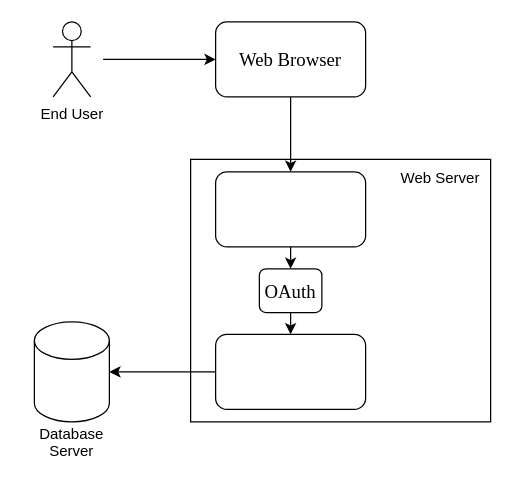
Some shapes in this 513 by 481 pixel diagram are drawn without their labels. The box of each missing label's shape, as (x1, y1, x2, y2) in pixels:
Database Interface: (214, 333, 366, 409)
Web Interface: (214, 171, 366, 247)
